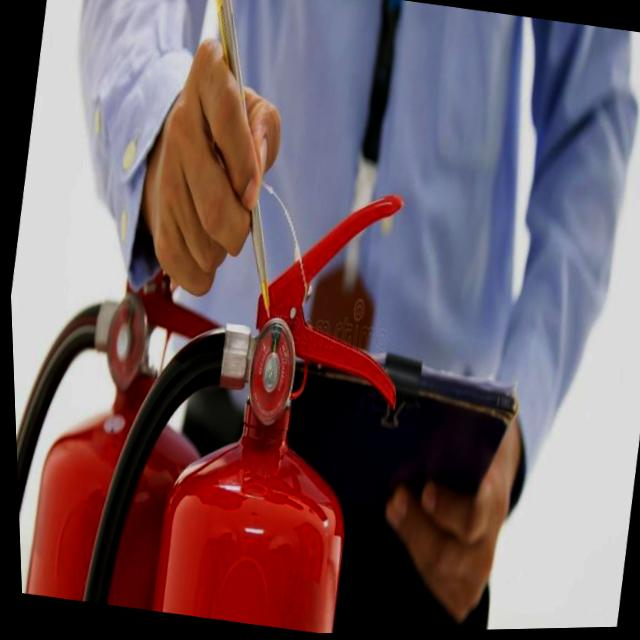FireExtinguisher: (59, 144, 437, 639), (4, 121, 279, 622)
